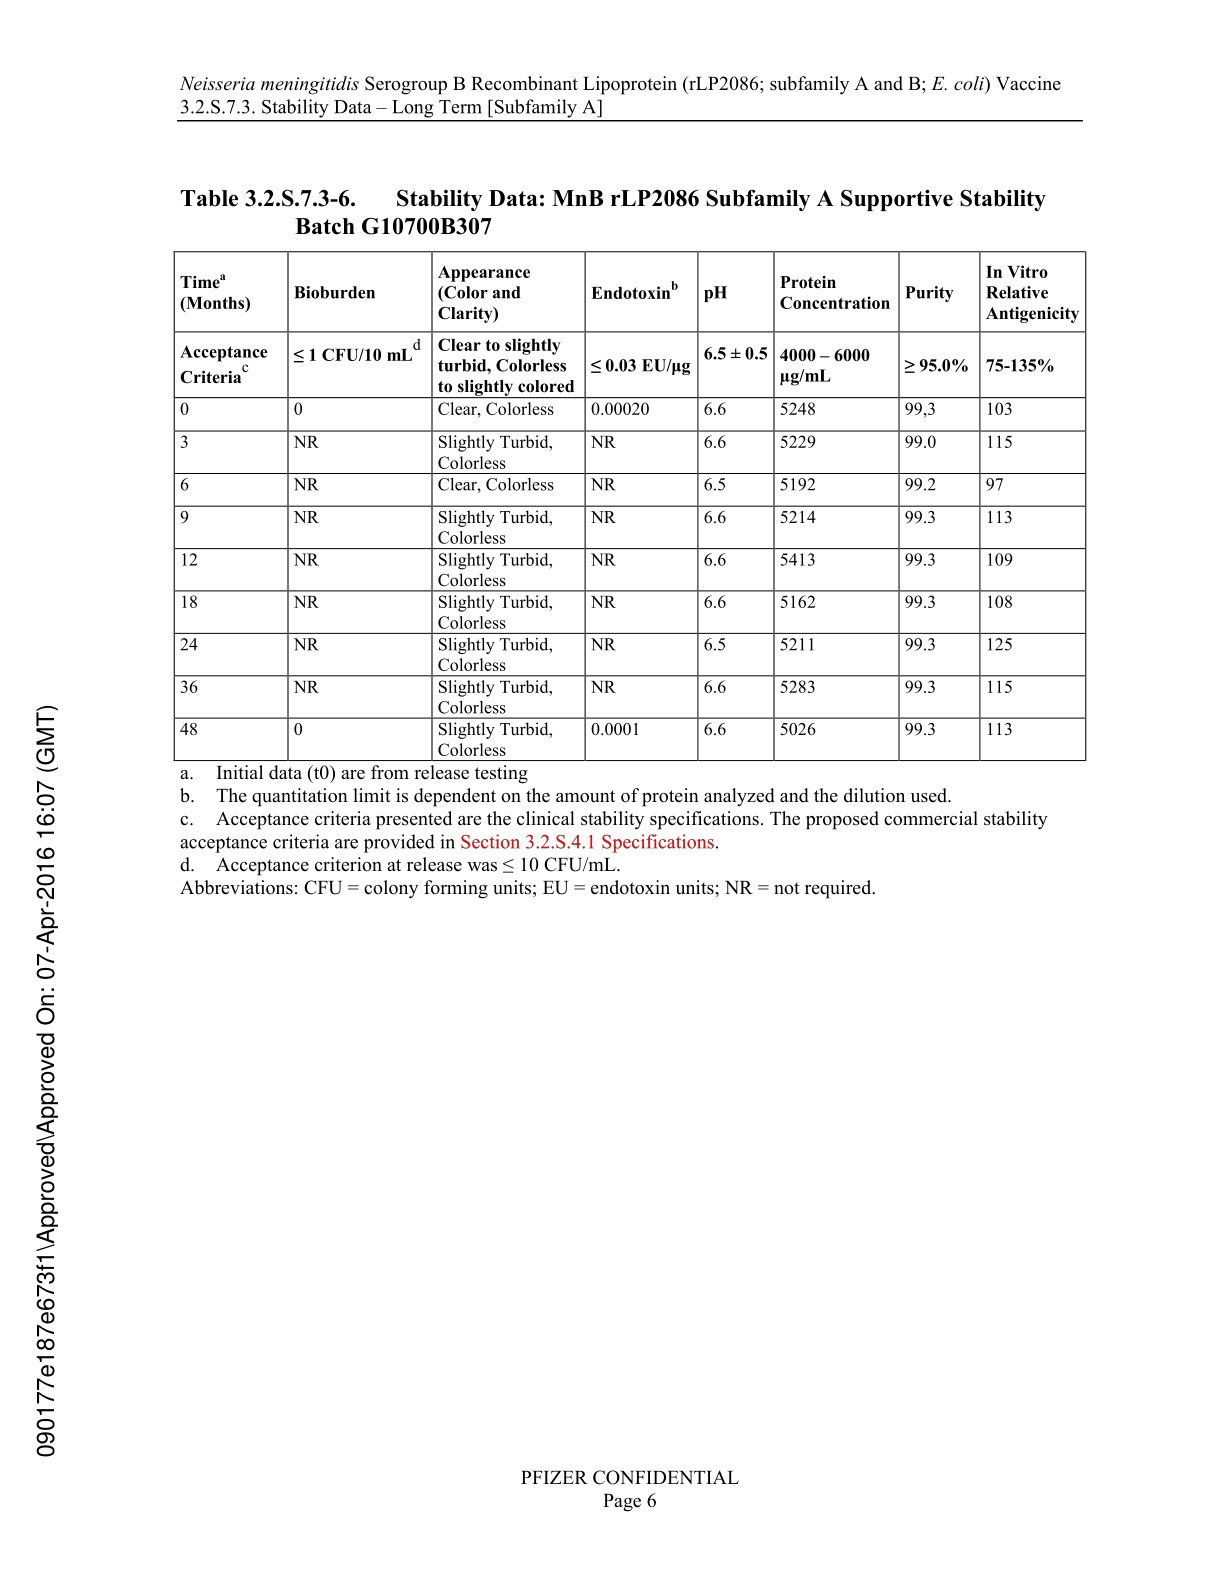full_lined: (174, 249, 1086, 761)
